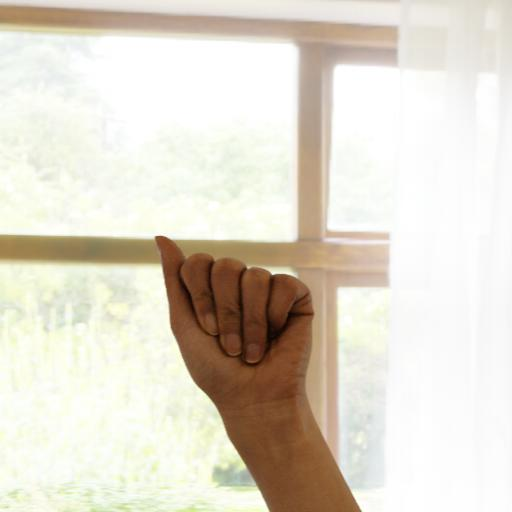A: (147, 227, 330, 500)
